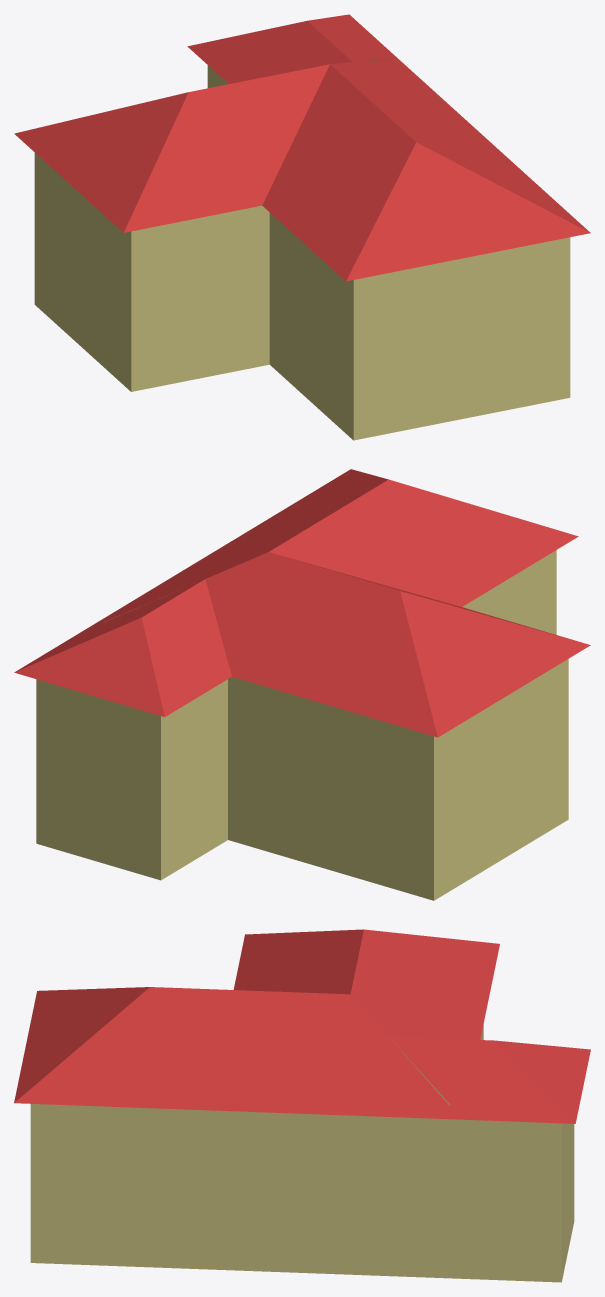
The picture shows the model from 3 angles, top to bottom: view 1: azimuth 30°, elevation 25°; view 2: azimuth 150°, elevation 25°; view 3: azimuth 270°, elevation 25°; orthographic projection. The views are drawn at different scales.
Bounding box in the file's own units: 14.67 × 18.89 × 8.34.
